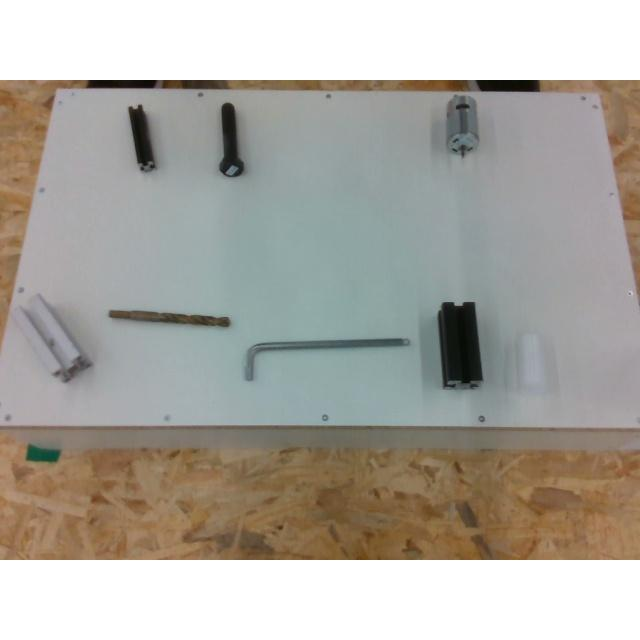AllenKey: (244, 338, 412, 380)
Drill: (106, 307, 230, 329)
F20_20_B: (129, 104, 155, 168)
M20_100: (218, 102, 242, 174)
Motor2: (446, 93, 480, 159)
S40_40_B: (438, 302, 482, 386)
S40_40_G: (11, 294, 93, 386)
Spacer: (515, 331, 547, 391)
